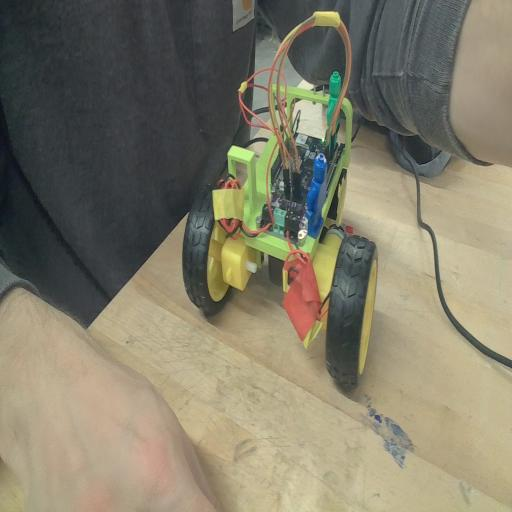blue LEGO minifig: (304, 150, 328, 240)
green LEGO minifig: (328, 73, 343, 138)
